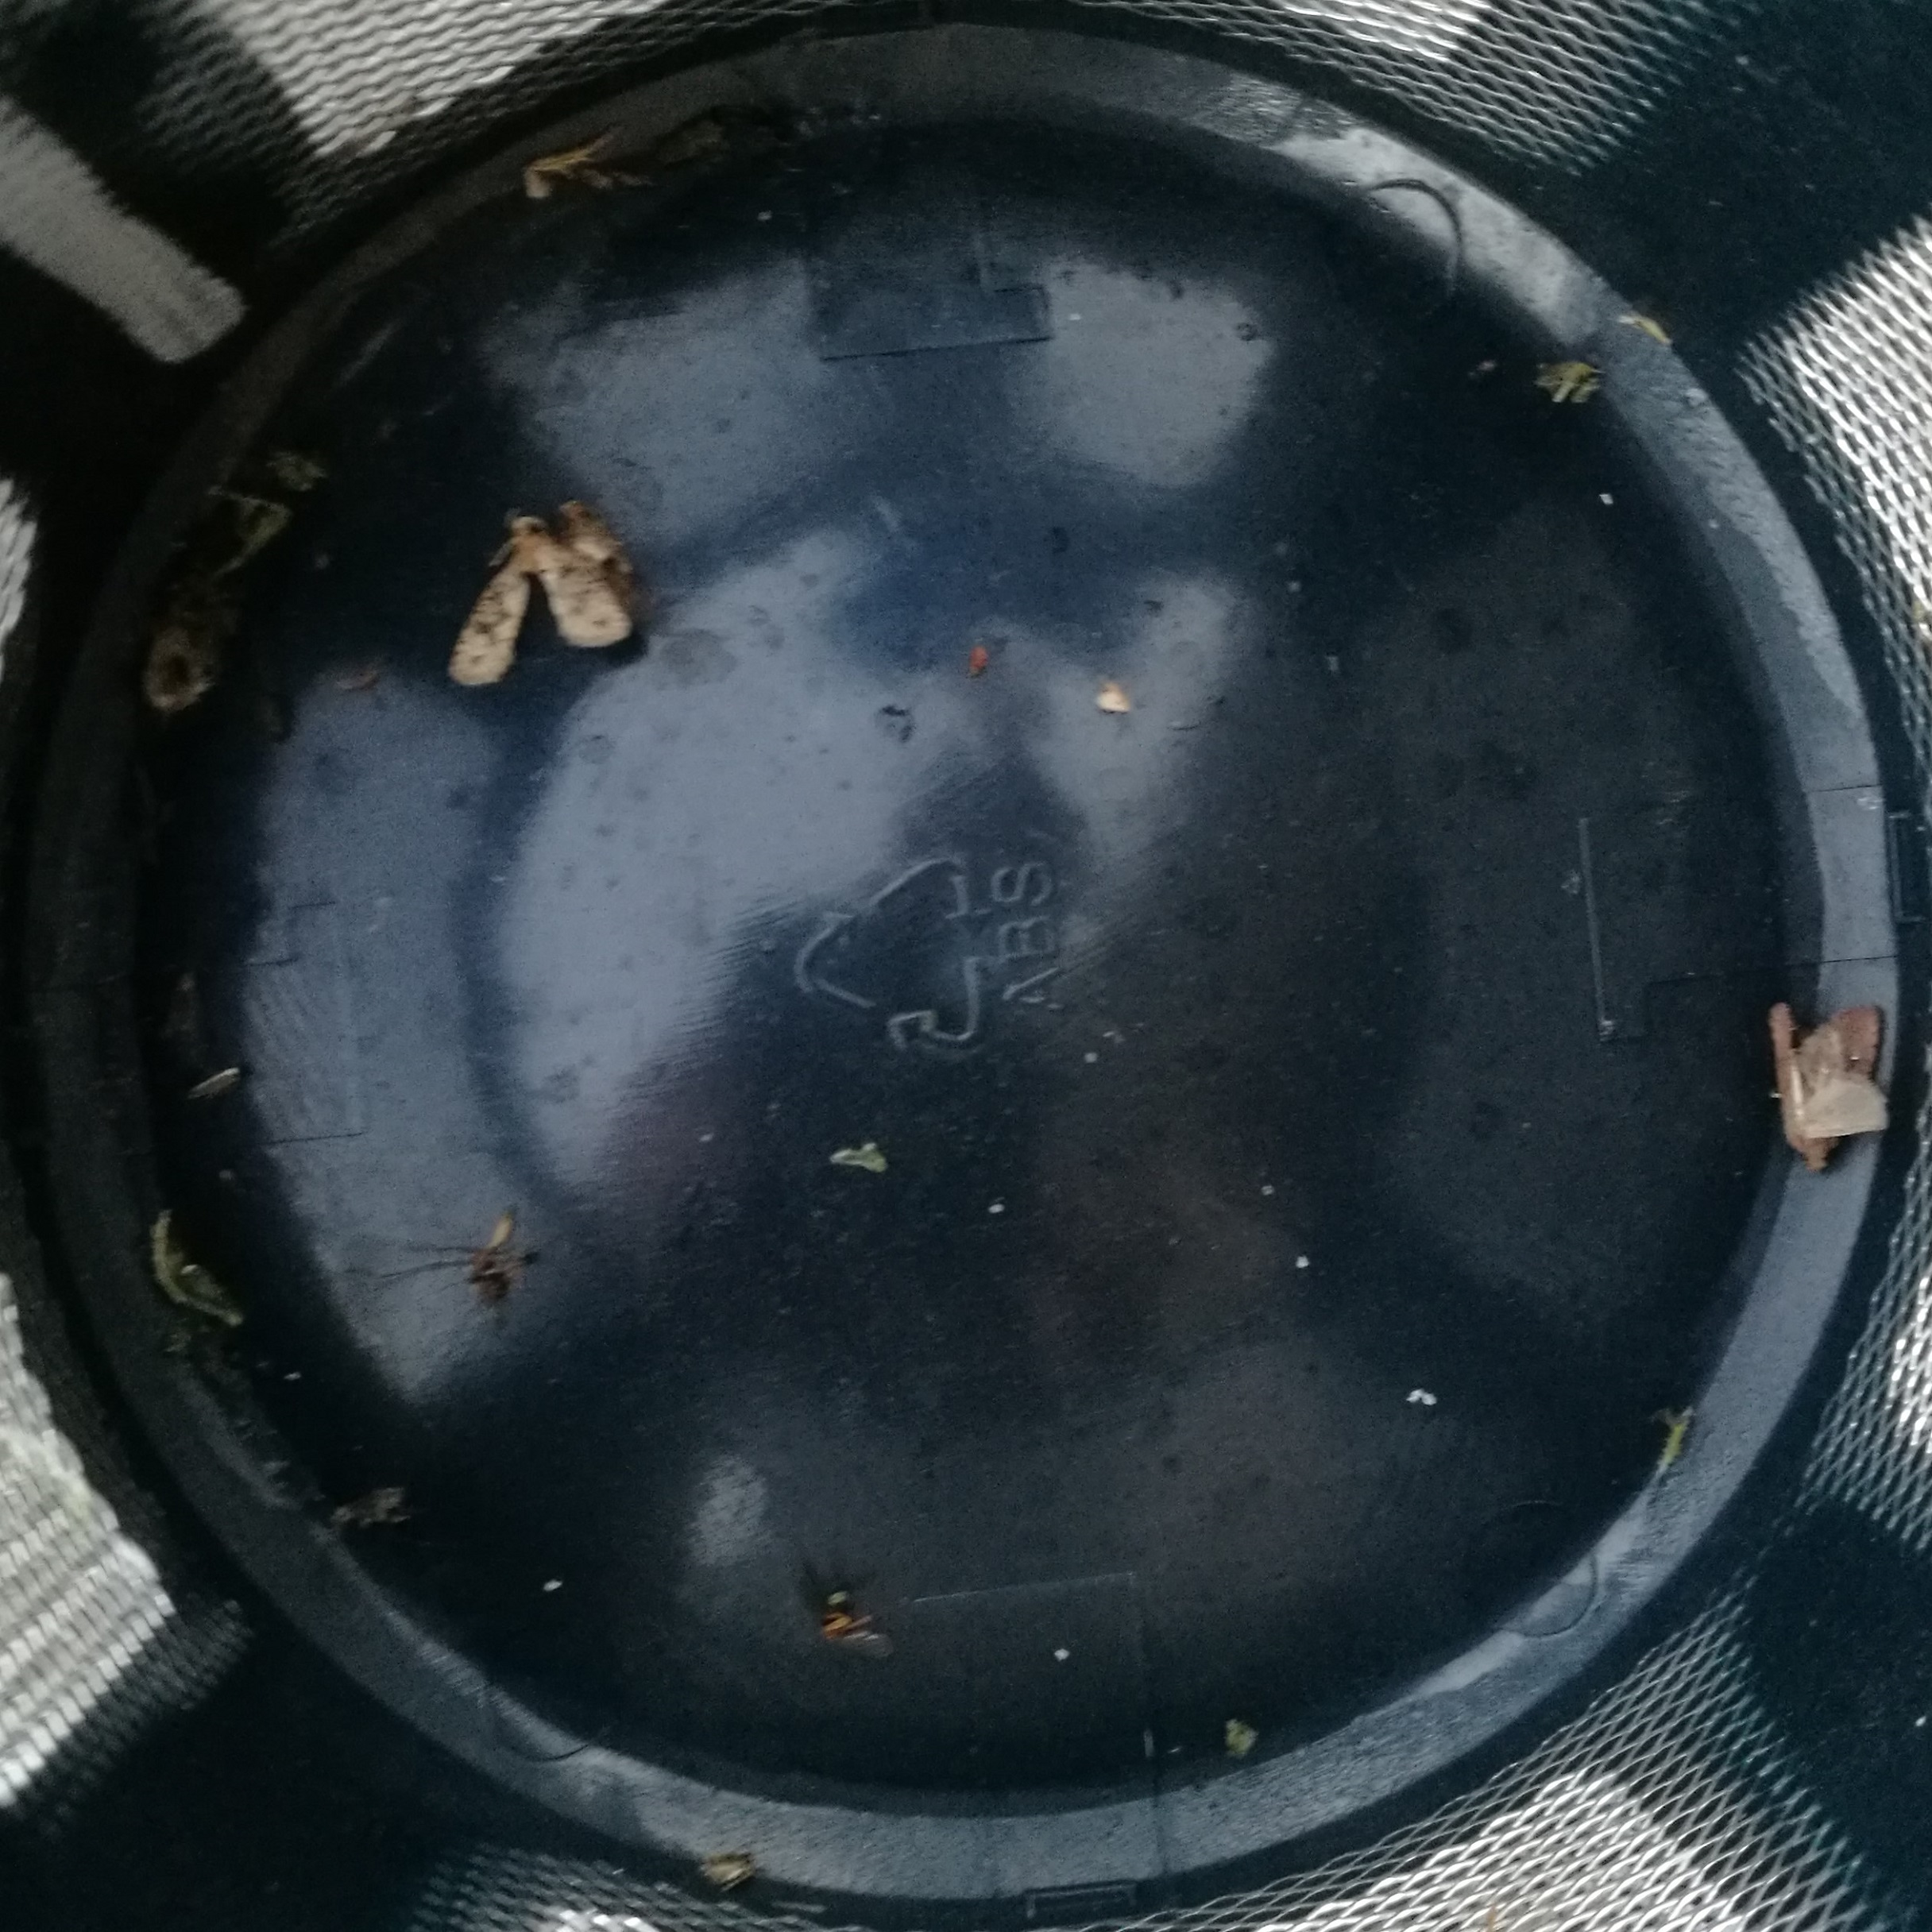moth: (448, 520, 632, 690), (1775, 1000, 1886, 1168)
